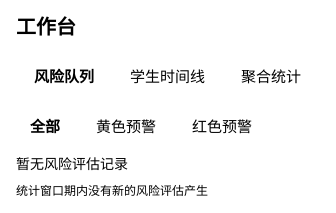
Test case: WorkbenchView (咨询员工作台) › 端点 403 降级 (延迟发现): 队列正常而统计端点 403 时同样整页降级
Expected: the text "暂无风险评估记录" is shown, [16, 153, 128, 175]
What coordinates should you click on to do the following:
click the tab "聚合统计"
I would click on:
 (271, 76)
Its box is [223, 57, 319, 95].
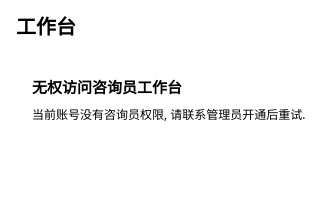
Expected: the text "无权访问咨询员工作台" is shown, [32, 77, 182, 97]
